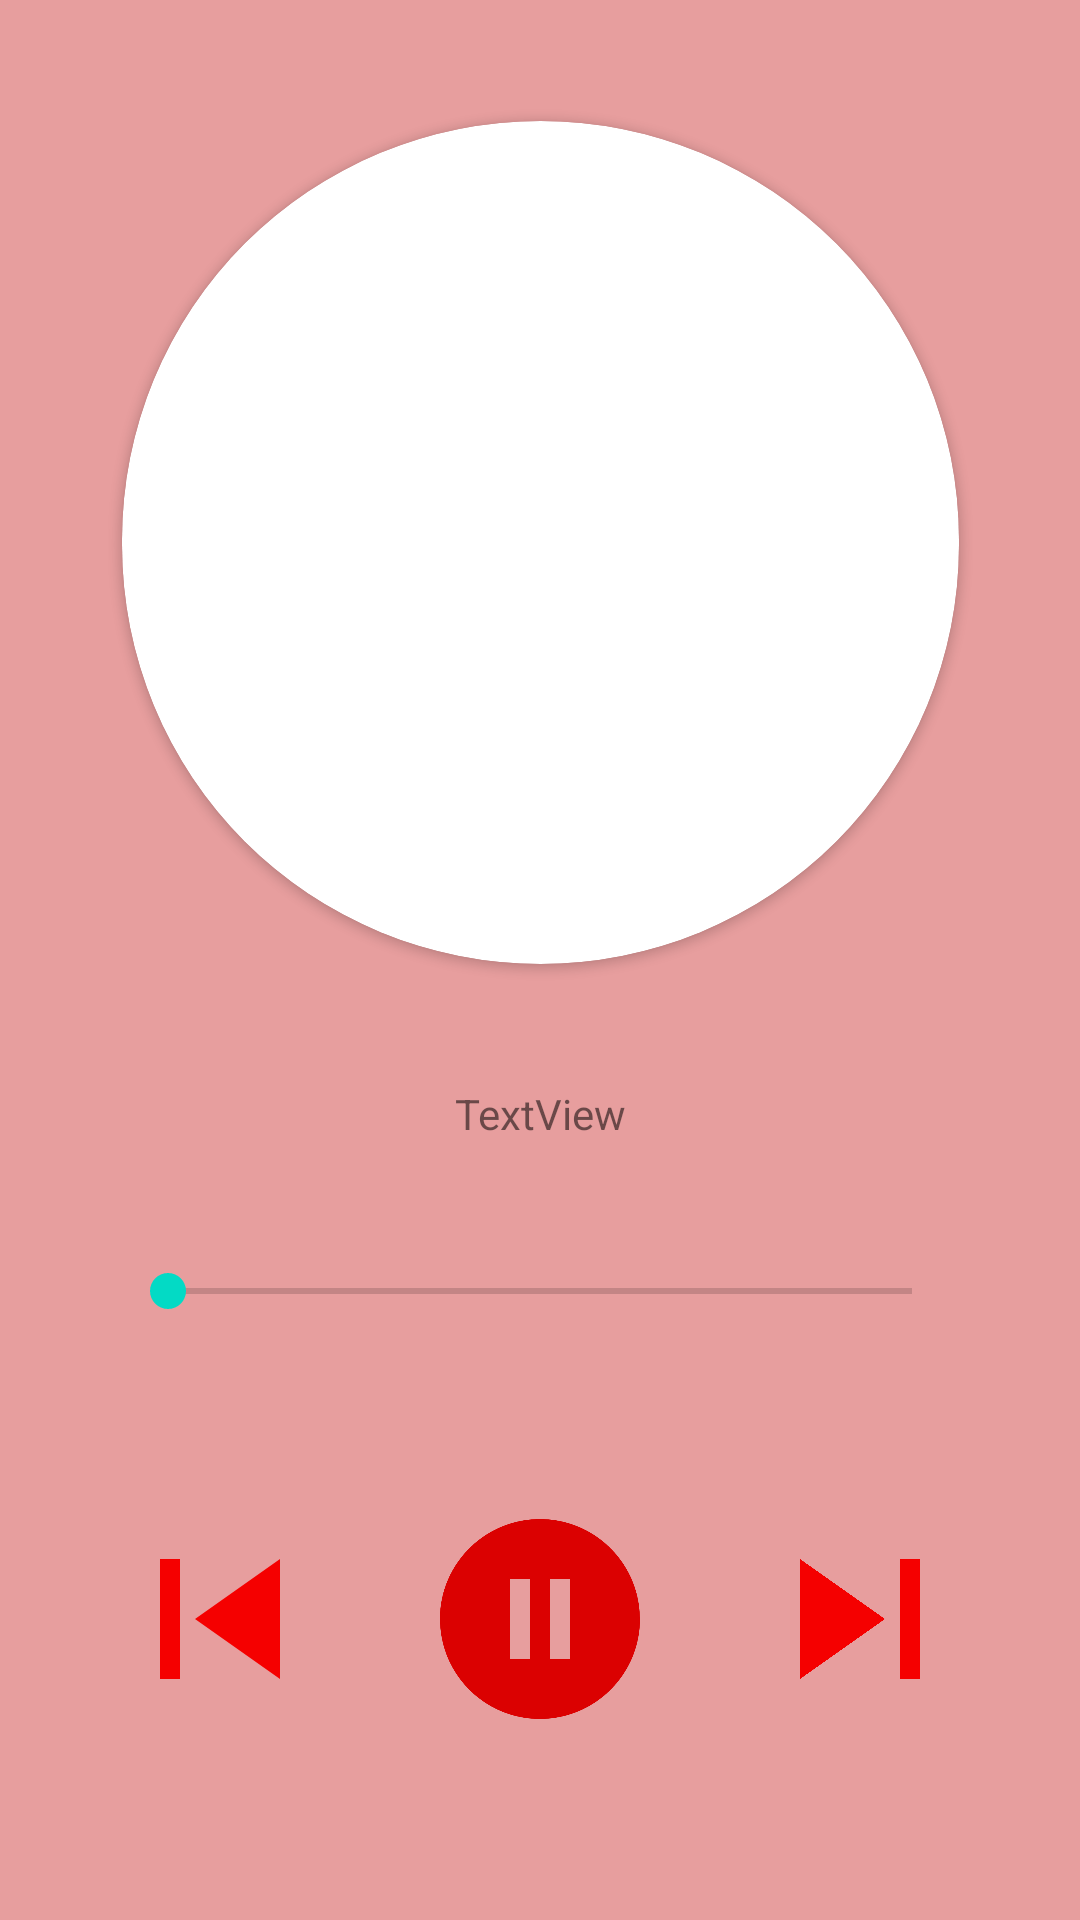

Screen size 1080px x 1920px. Icon name, then its box in pixels as [x1,y1,x2,y2]:
next: [800,1559,920,1679]
pause: [440,1519,640,1719]
previous: [160,1559,280,1679]
